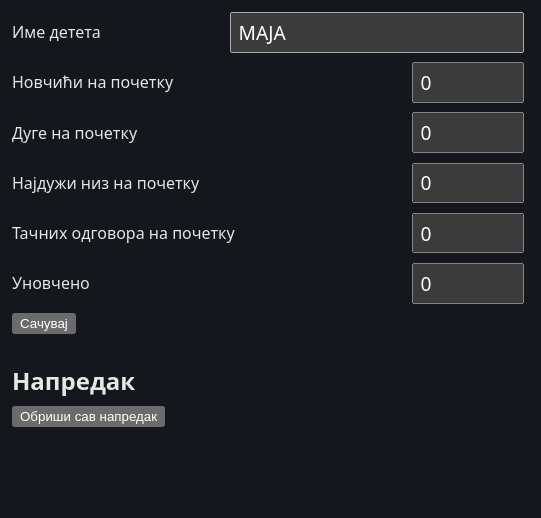
reset needs the kid name typed before Да, обриши works
Click the button "Обриши сав напредак": (89, 417) [12,406,165,427]
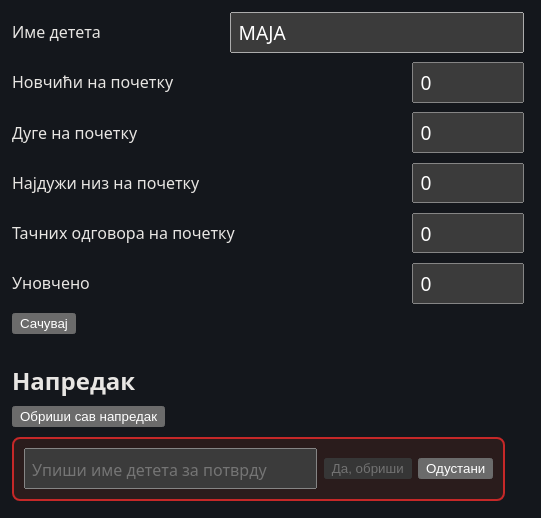
In the field with placeholder "Упиши име детета за потврду": (170, 469) [24,448,317,489], type "АНА"
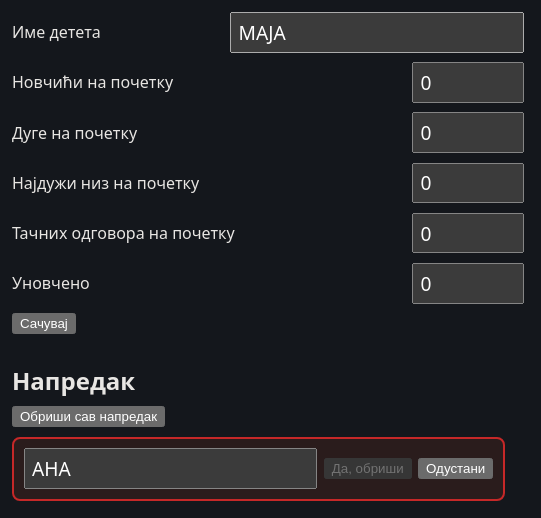
Expected: the button "Да, обриши" is disabled, [324,458,412,479]
Replace the text in the field with placeholder "Упиши име детета за потврду" with "маја": (170, 469) [24,448,317,489]
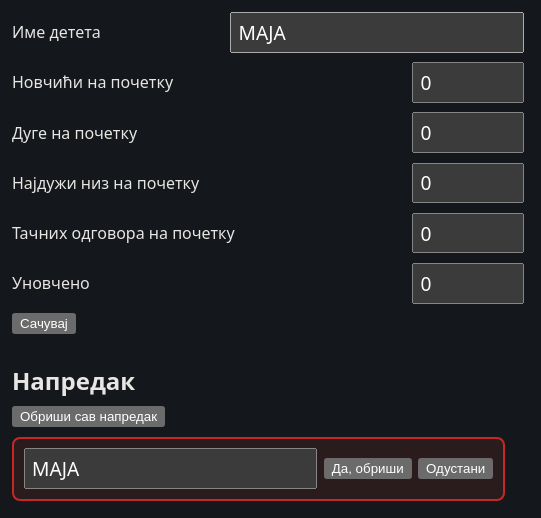
Click the button "Да, обриши": (368, 469) [324,458,412,479]
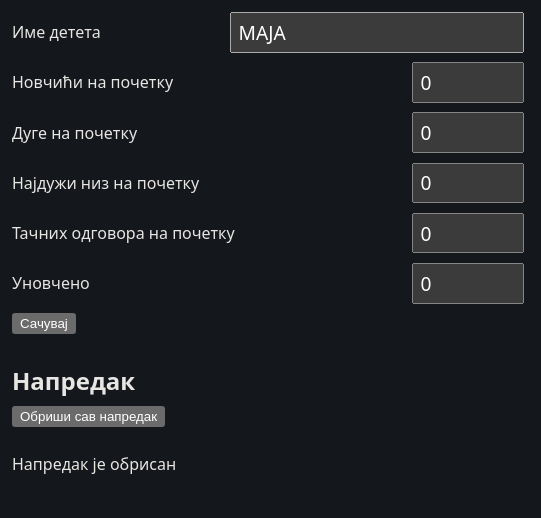
Expected: the text "Напредак је обрисан" is shown, [12,453,176,475]
